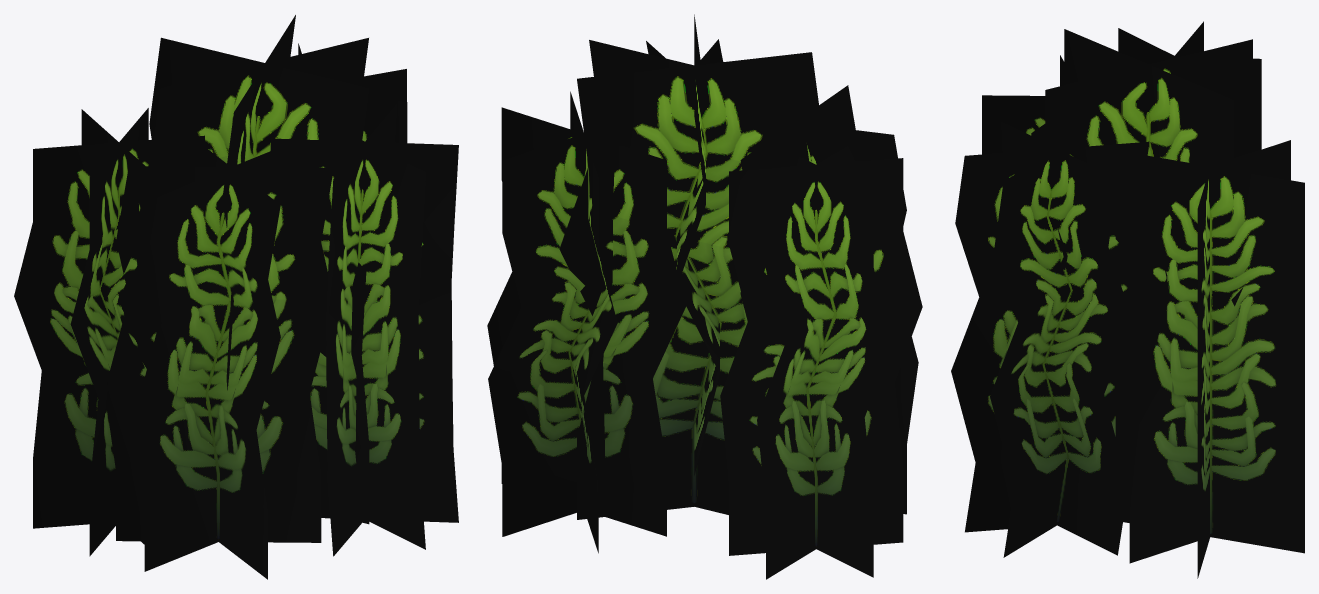
Rendered from trp_weed2.glb.
3 renders of one model, left to right at view 1: azimuth 30°, elevation 25°; view 2: azimuth 150°, elevation 25°; view 3: azimuth 270°, elevation 25°, orthographic.
Parts seen in each view (by area): view 1: SM_Env_Seaweed_02_LOD0; view 2: SM_Env_Seaweed_02_LOD0; view 3: SM_Env_Seaweed_02_LOD0.
Part boxes in pixels (box(x1,y1,x2,y2)): SM_Env_Seaweed_02_LOD0: box(14, 15, 458, 579); SM_Env_Seaweed_02_LOD0: box(487, 14, 922, 579); SM_Env_Seaweed_02_LOD0: box(951, 21, 1304, 578).
Size of what is drawn, in the model's own units: 2.14 by 2.2 by 1.63.
1 material, 1 textured.
